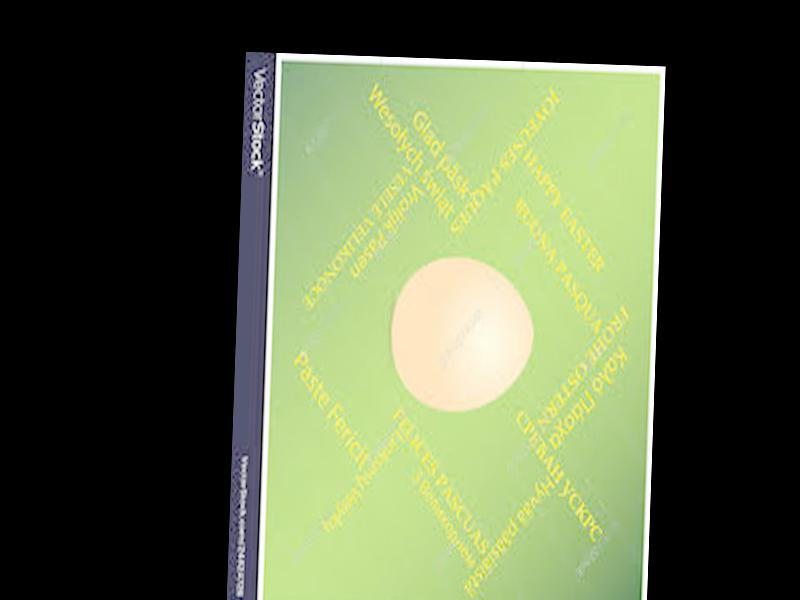Eggs: (389, 257, 532, 414)
